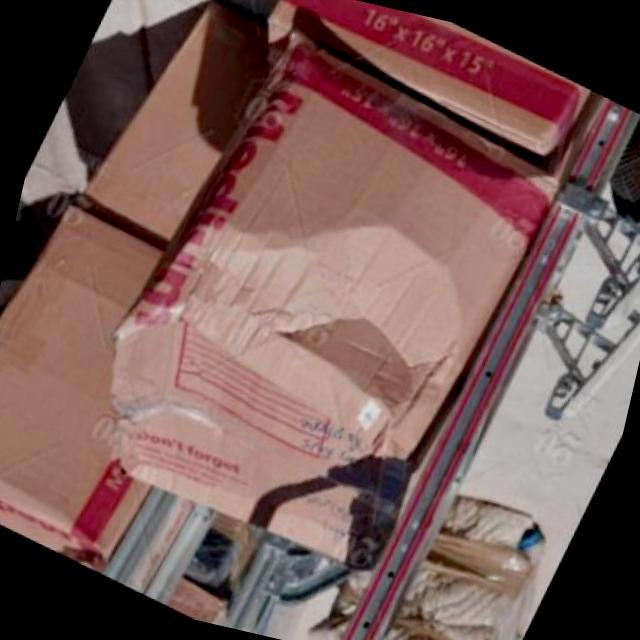box: (47, 0, 595, 617)
